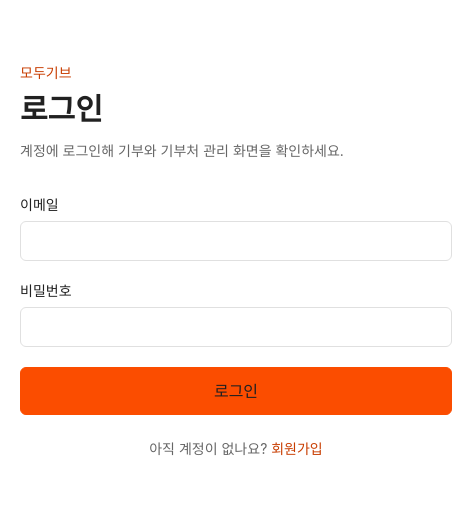
Test: AuthForm › shows a safe message when the Auth request throws
Type "user@example.com" into the field labelled "이메일" at (236, 241), box [20,221,452,261]
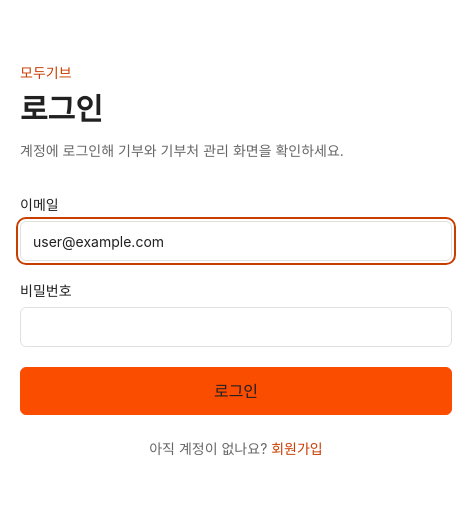
Type "secret1" into the password field labelled "비밀번호" at (236, 327), box [20,307,452,347]
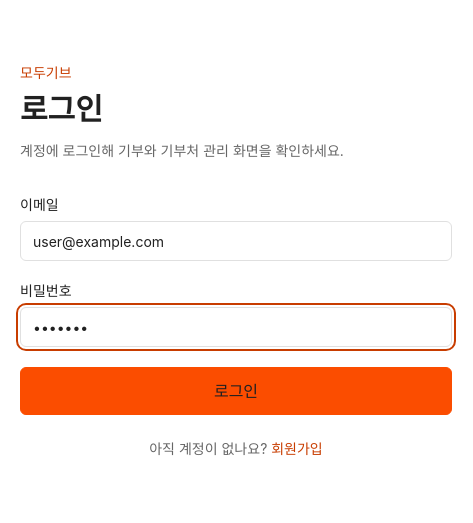
Click the button "로그인" at (236, 391), box [20,367,452,415]
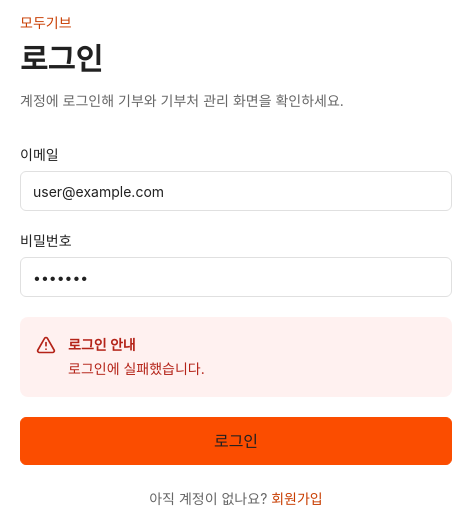
Expected: the text "로그인에 실패했습니다." is shown, [68,357,205,381]
